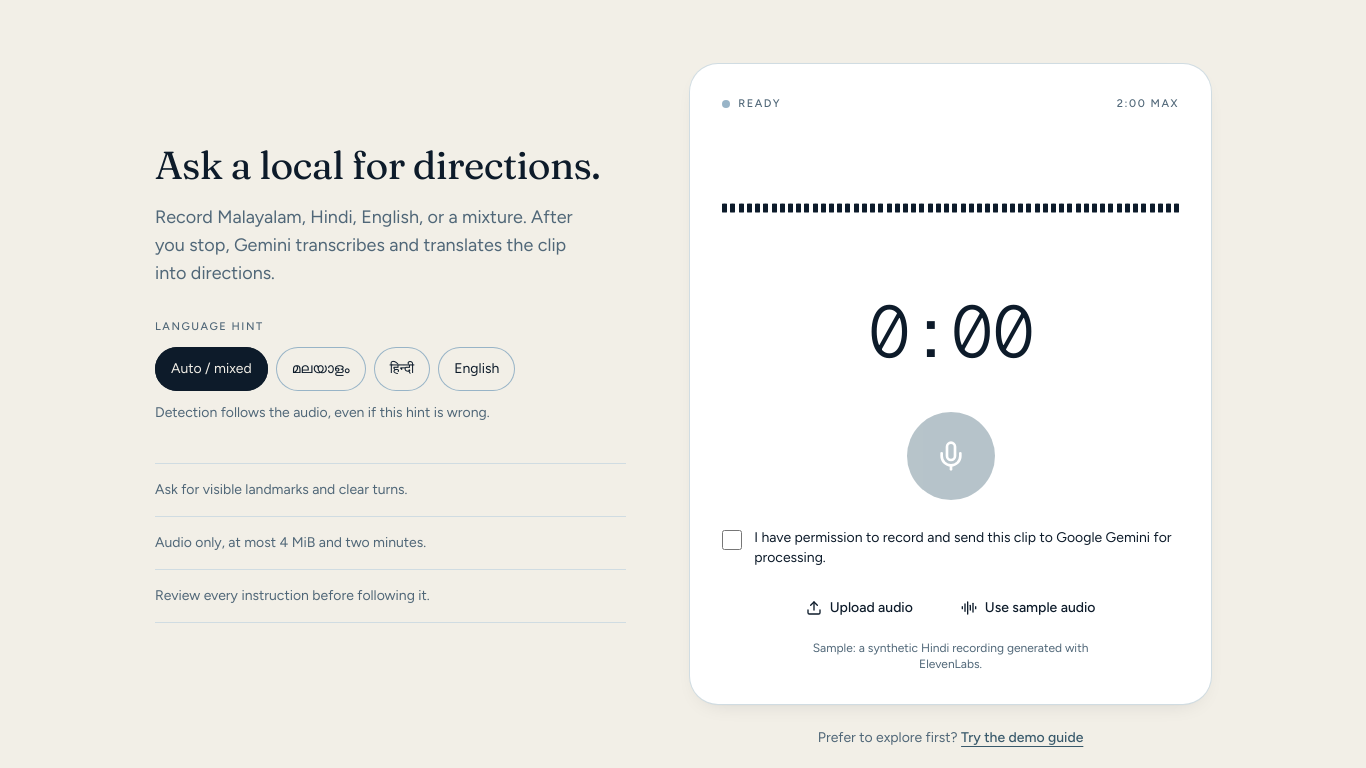
Scenario: bundled sample clip on the record screen › shows a clear error when the sample cannot be downloaded
Click the button "Use sample audio".
click(1028, 608)  # box top-left (941, 584), bottom-right (1116, 632)
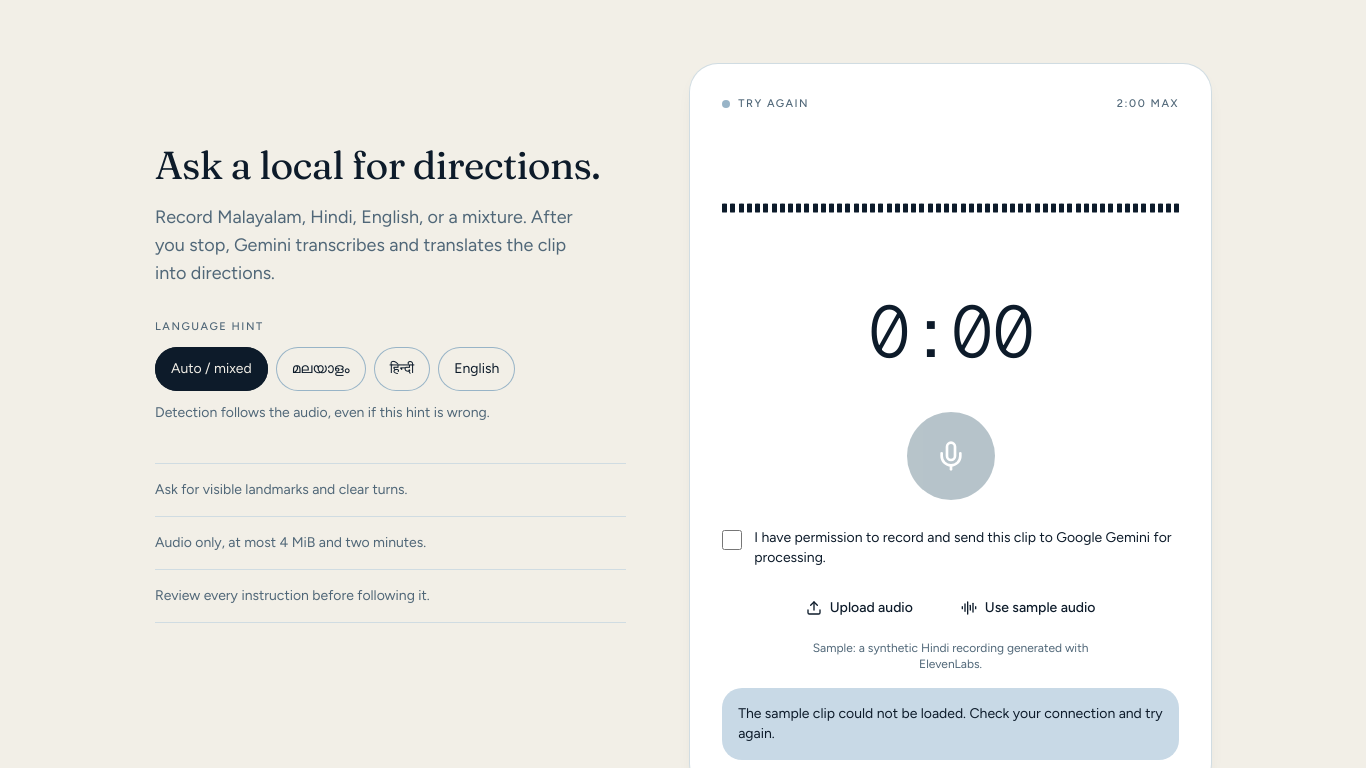
Now the message shows "sample clip could not be loaded", box top-left (738, 705), bottom-right (1163, 742)
